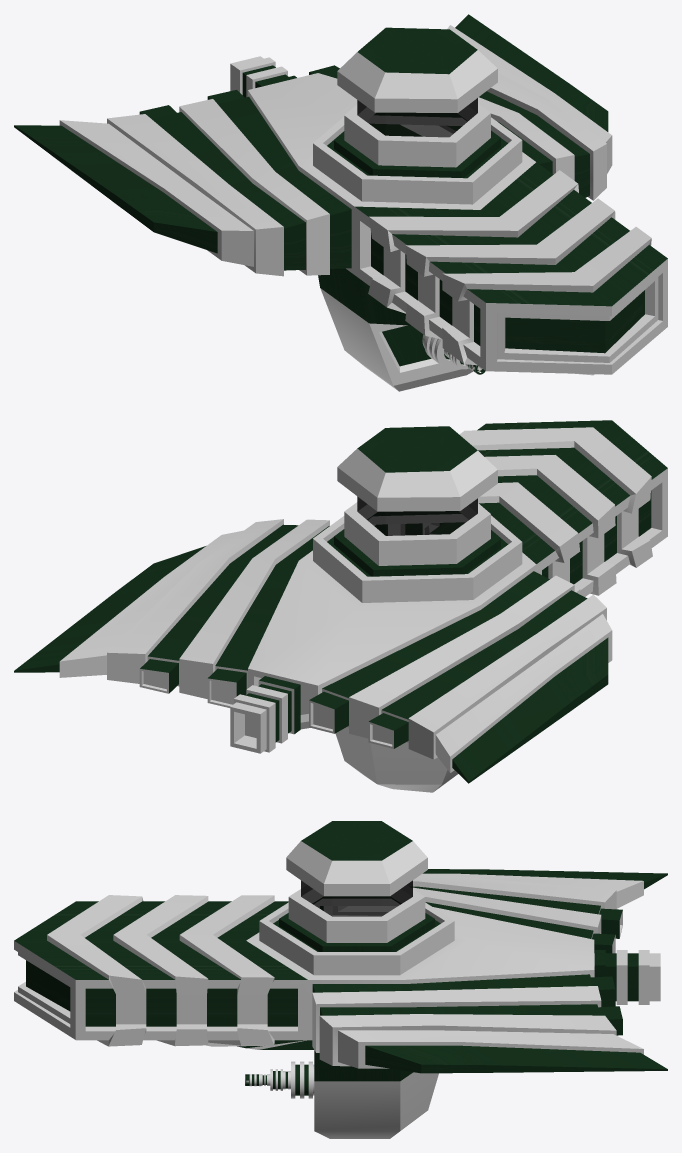
Rendered from DBA.fbx.
3 views of the same model, one above another, from view 1: azimuth 30°, elevation 25°; view 2: azimuth 150°, elevation 25°; view 3: azimuth 270°, elevation 25° (orthographic). The views are drawn at different scales.
Visible parts, largest first — view 1: DBA; view 2: DBA; view 3: DBA.
Part boxes in pixels (left/top/right/bottom): DBA: left=14, top=14, right=667, bottom=391; DBA: left=14, top=420, right=667, bottom=792; DBA: left=14, top=821, right=667, bottom=1138.
Bounding box in the file's own units: 6.01 × 4.06 × 8.49.
